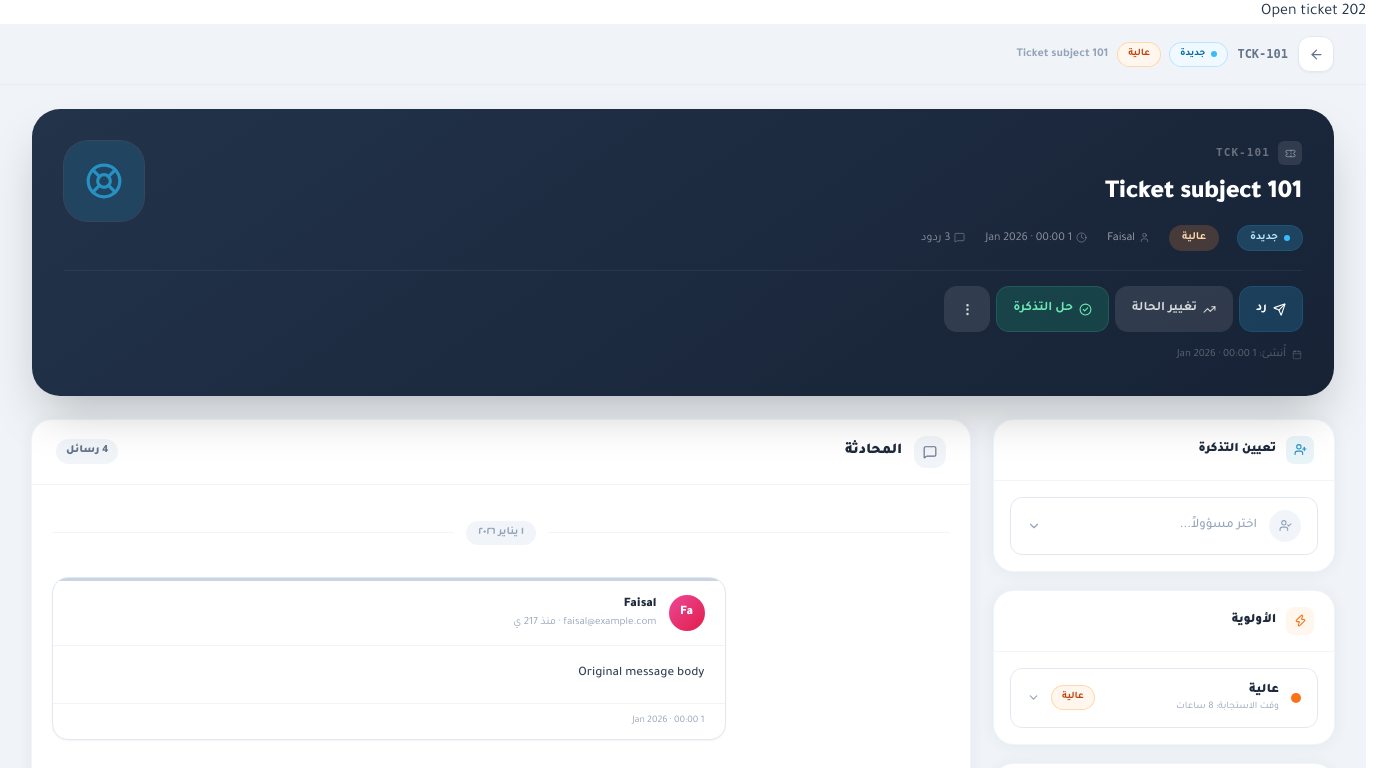
Test: OpsSupportTicketDetailPage — scroll behavior › resets window scroll to the top again when opening another ticket from inside the detail page
Expected: the heading "Ticket subject 101" is shown, left=1105, top=180, right=1302, bottom=206
Click the link "Open ticket 202" at (1314, 12), box left=1261, top=4, right=1366, bottom=20
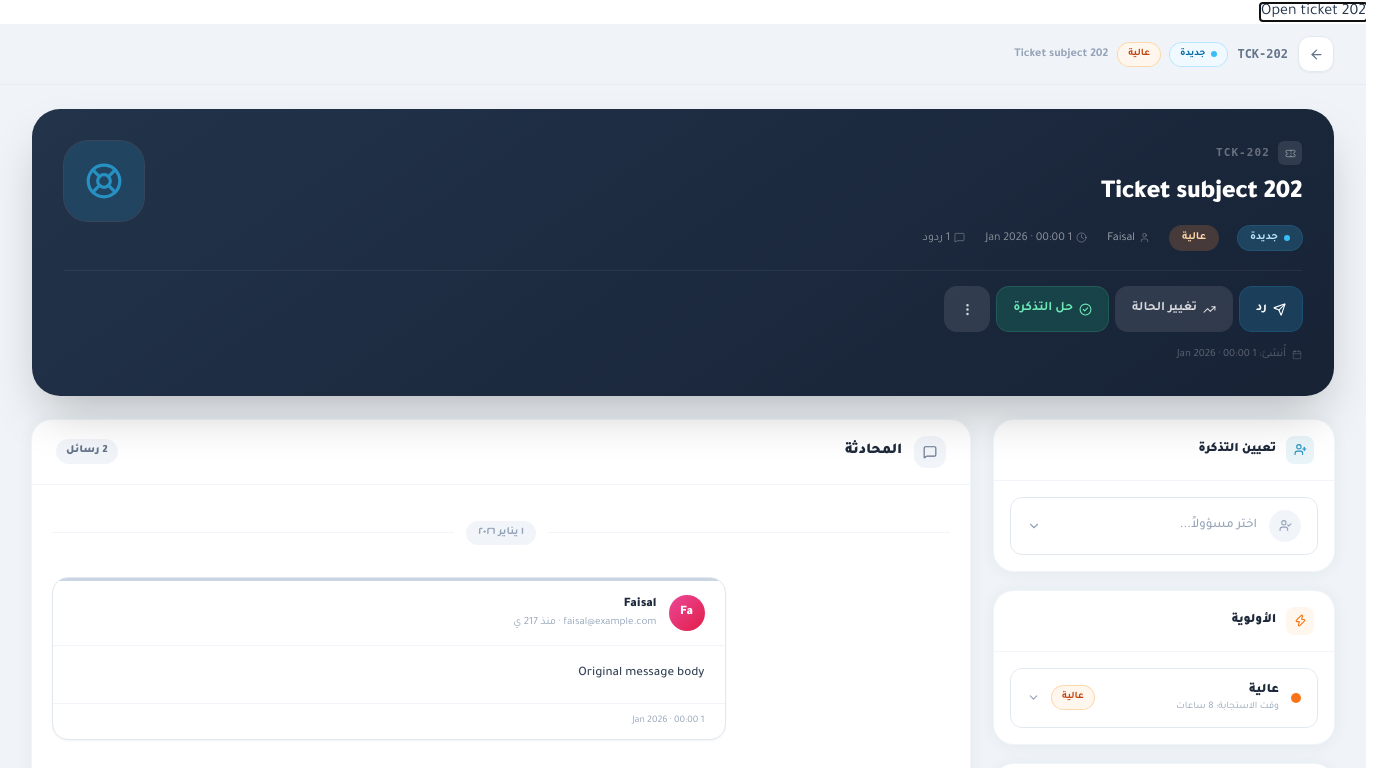
Now the heading "Ticket subject 202" is shown, box left=1101, top=180, right=1302, bottom=206
